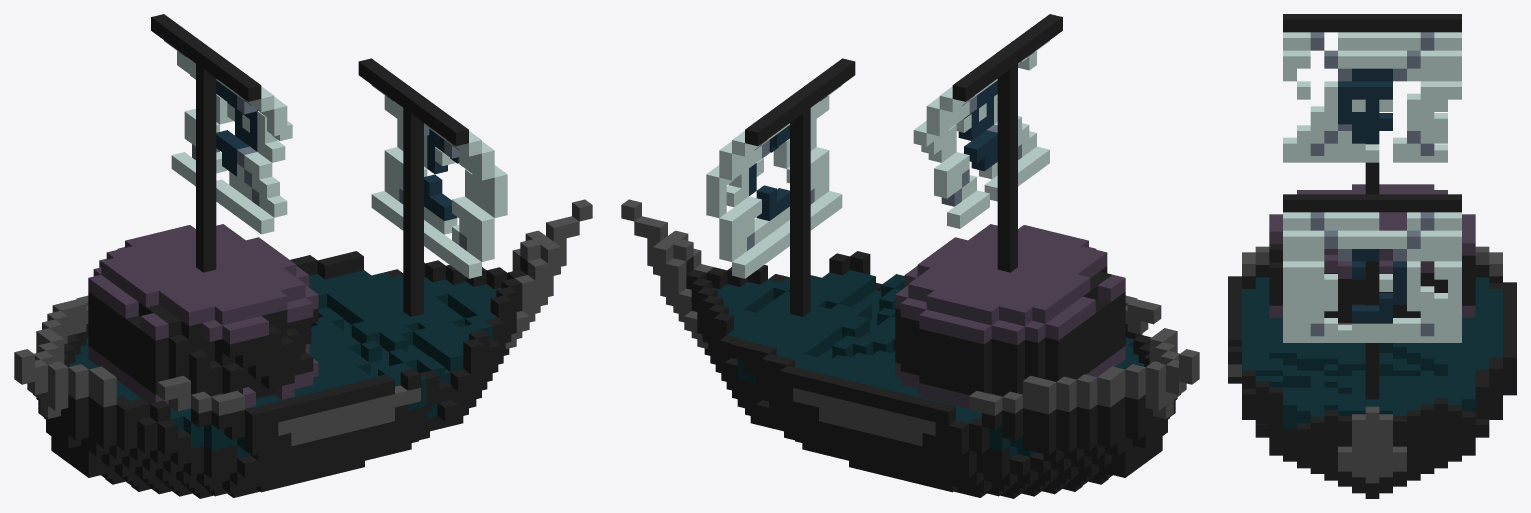
The model's file is pirate ship 2(보스).obj.
3 views of the same model, side by side, from view 1: azimuth 30°, elevation 25°; view 2: azimuth 150°, elevation 25°; view 3: azimuth 270°, elevation 25° (orthographic). The views are drawn at different scales.
Size of the model in its own units: 4.4 by 3.1 by 2.1.
